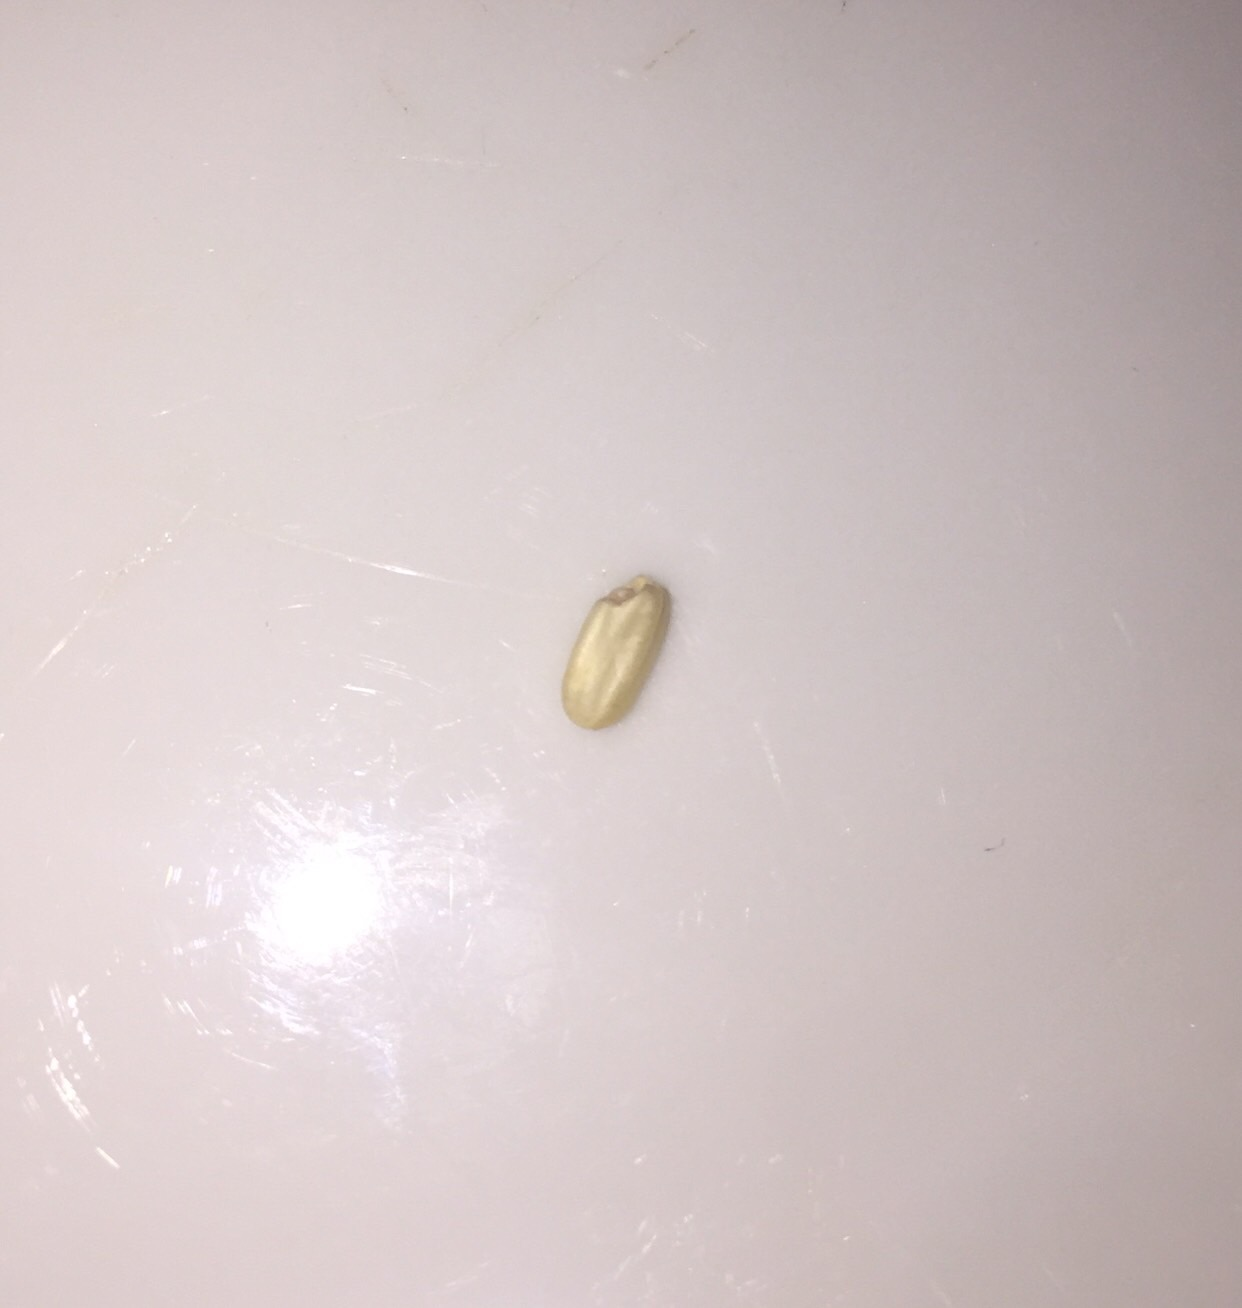Gao Lut Bac: (553, 555, 690, 758)
